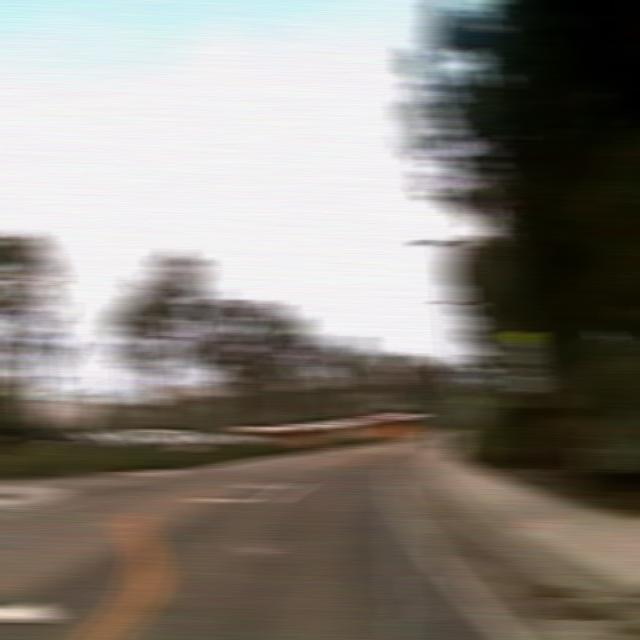speedLimit25: (502, 329, 544, 394)
